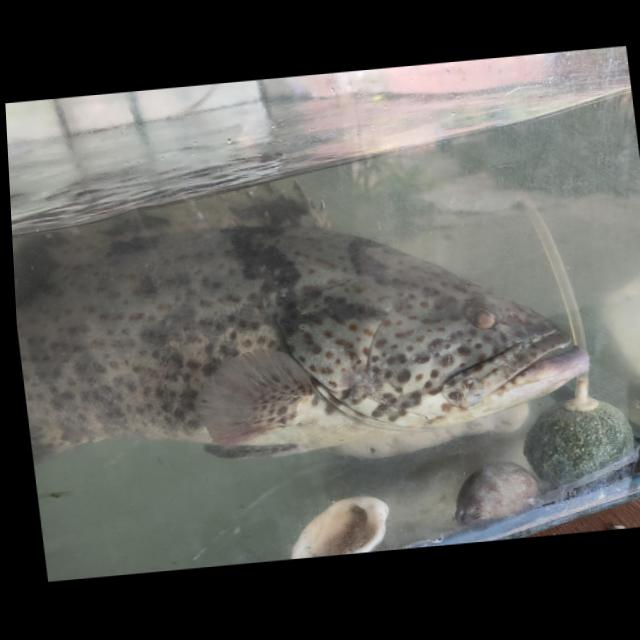Groupers: (8, 141, 599, 475)
